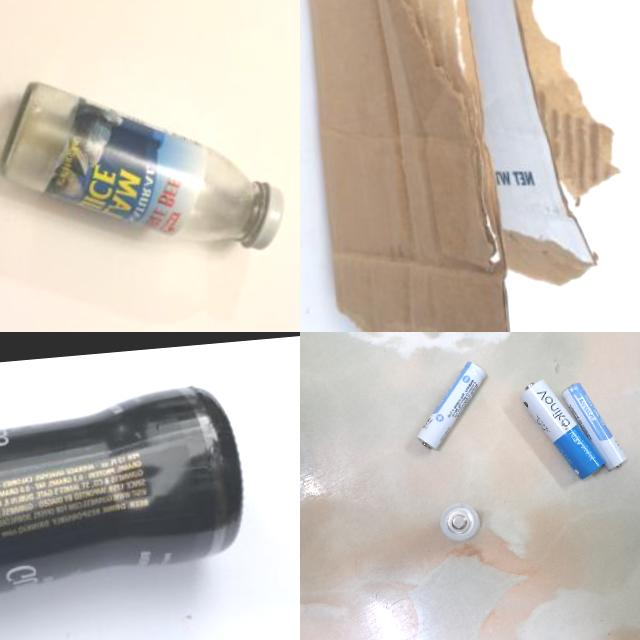bateria: (517, 374, 608, 484), (410, 359, 492, 450), (560, 379, 626, 474), (437, 501, 482, 544)
garrafa de vidro: (0, 380, 255, 631), (0, 59, 290, 269)
papelão: (300, 0, 637, 332)
